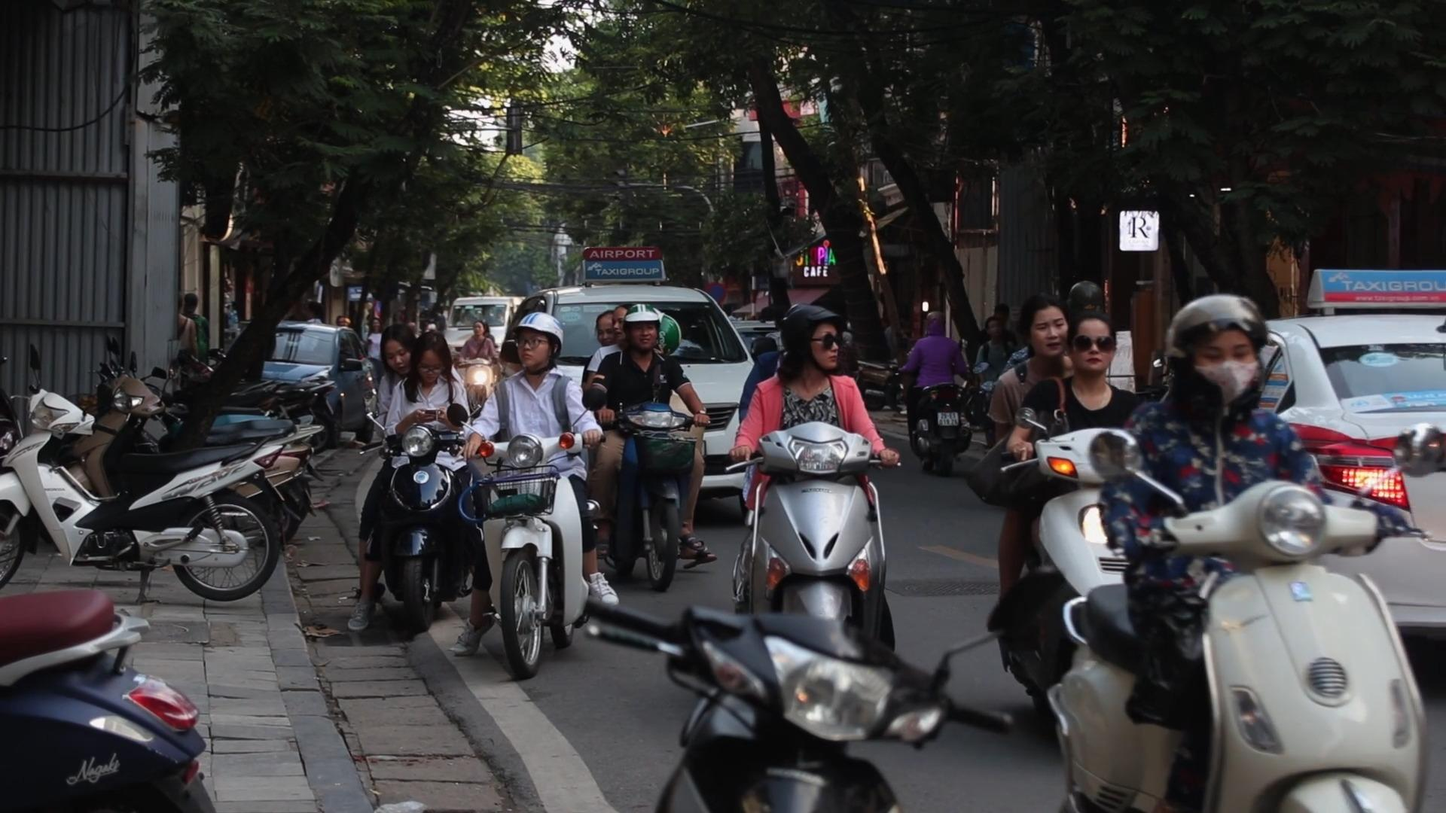driver: (1046, 294, 1446, 813), (968, 293, 1147, 730), (446, 312, 619, 680), (724, 305, 902, 651), (581, 303, 719, 591), (346, 324, 473, 634), (894, 311, 967, 478)
helmet: (1164, 294, 1269, 408), (781, 305, 840, 375), (512, 312, 564, 376), (623, 304, 660, 352), (925, 311, 947, 338)
no-helmet: (1018, 293, 1069, 357), (1066, 310, 1116, 373), (411, 332, 451, 383), (380, 324, 416, 375), (612, 304, 633, 341), (596, 310, 617, 347)
